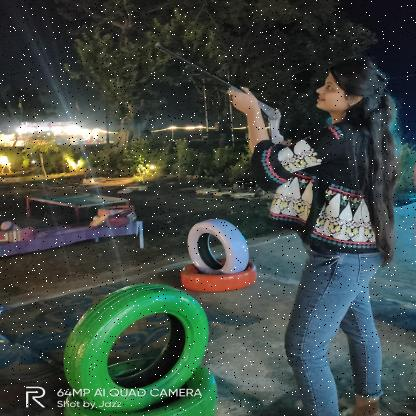rifle: (152, 40, 292, 168)
